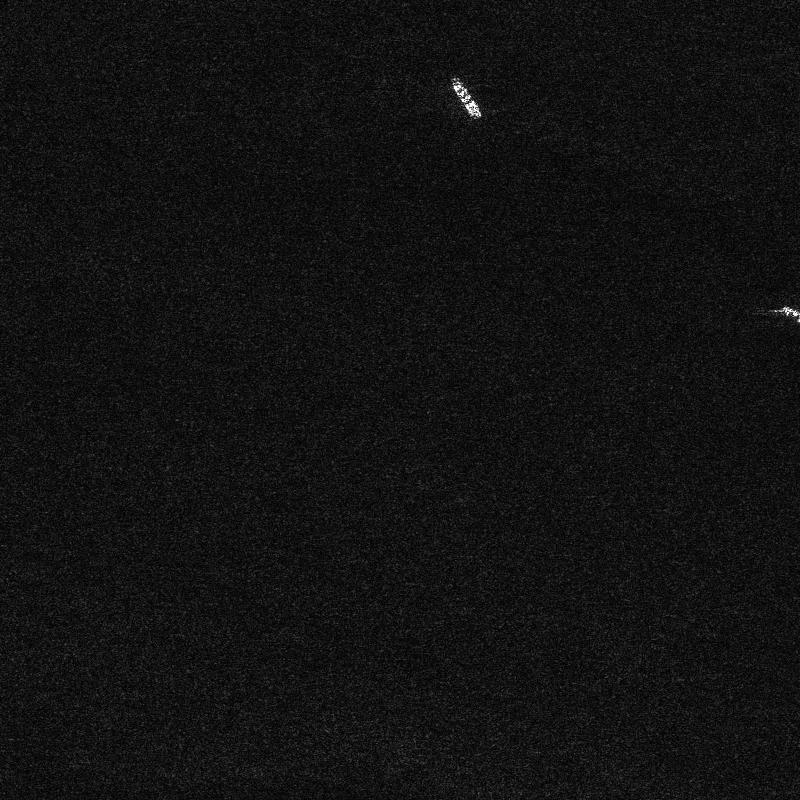ship: (451, 76, 481, 119), (780, 305, 799, 323)
